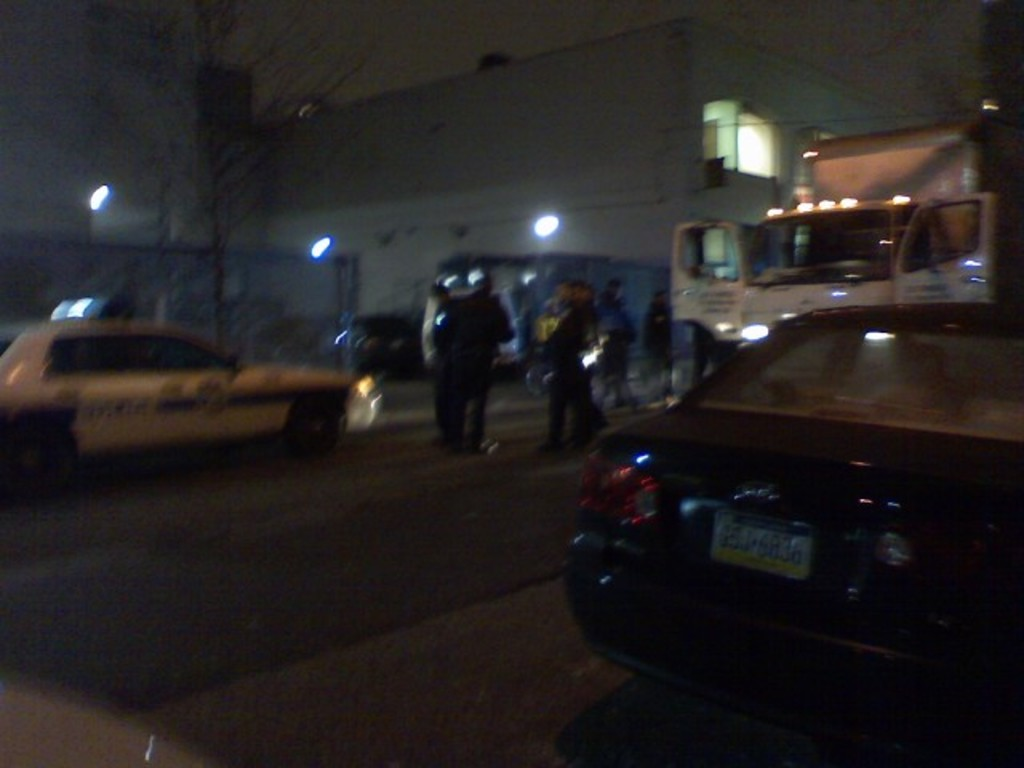license plate: (723, 506, 820, 567)
